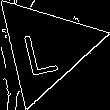L_N: (24, 19, 67, 76)
